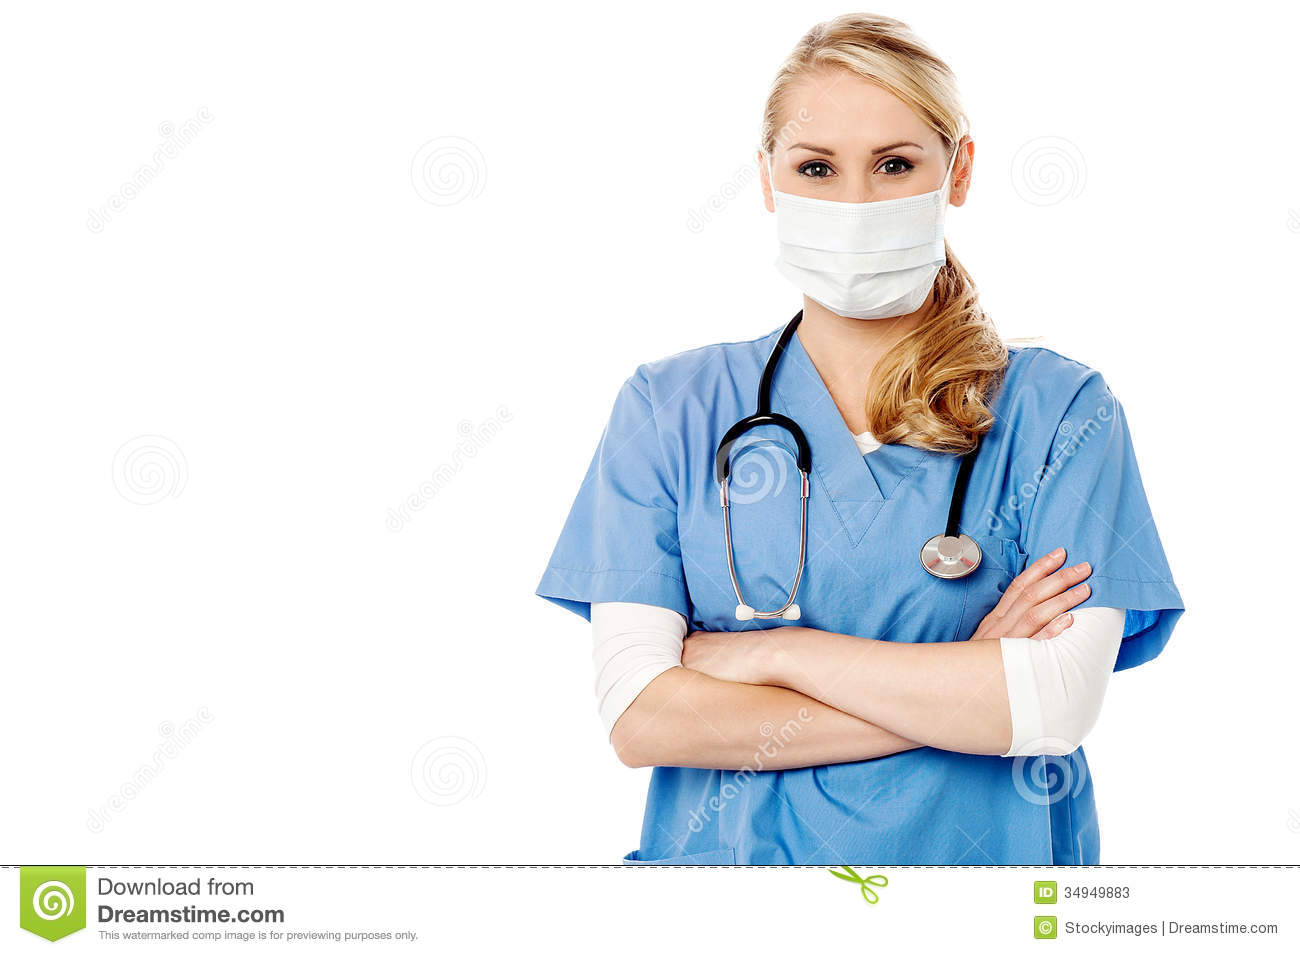mask: (769, 188, 963, 313)
